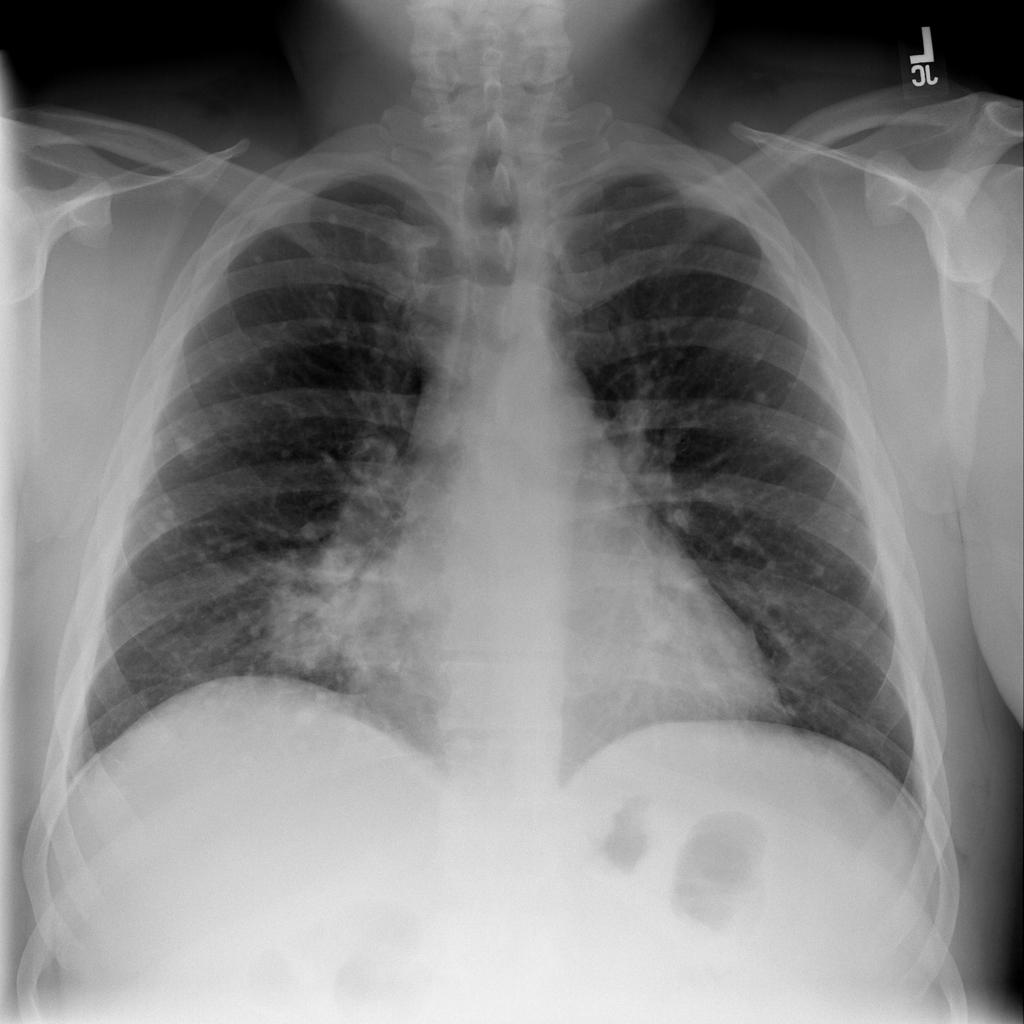nodule: (162, 421, 214, 471), (136, 497, 188, 546), (736, 367, 784, 420), (724, 281, 771, 334), (322, 208, 346, 232)
